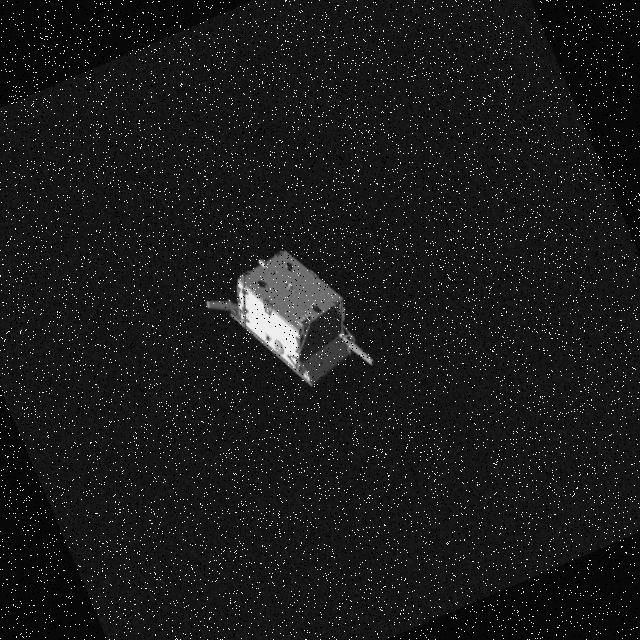satellite: (196, 252, 380, 388)
